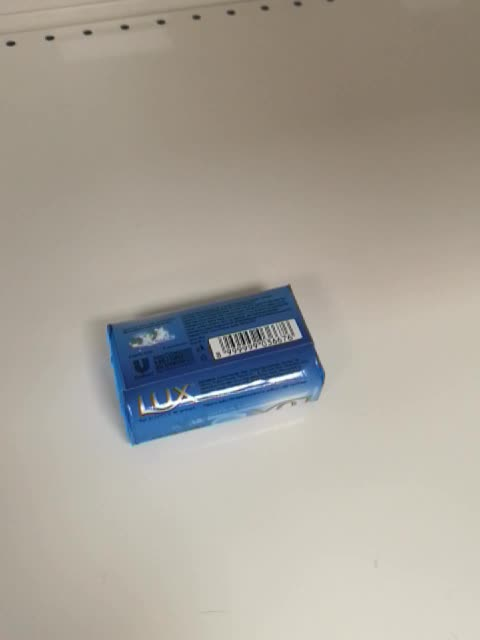soap: (105, 283, 327, 447)
